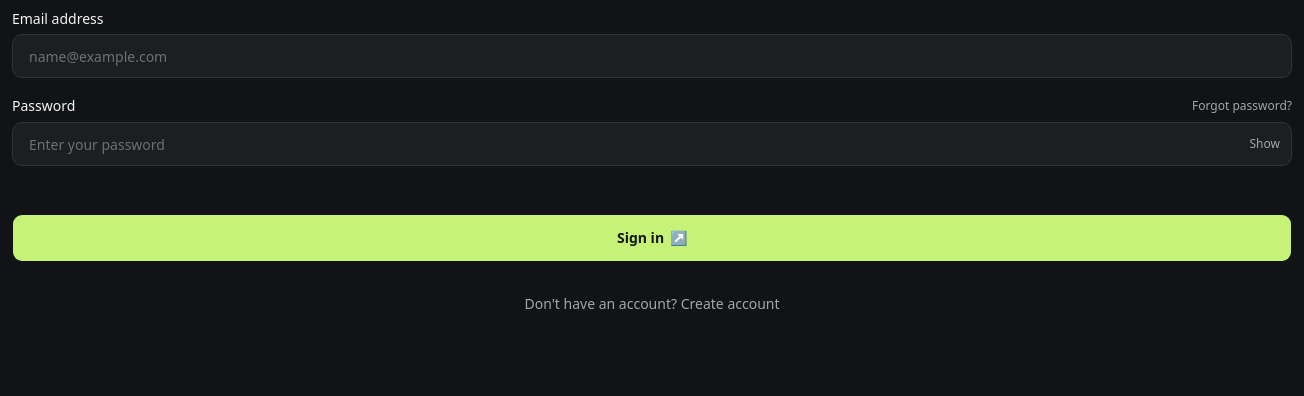
Test: LoginForm › shows network error without redirect
Type "user@example.com" into the field labelled "Email address" at (652,56), box [12,34,1292,78]
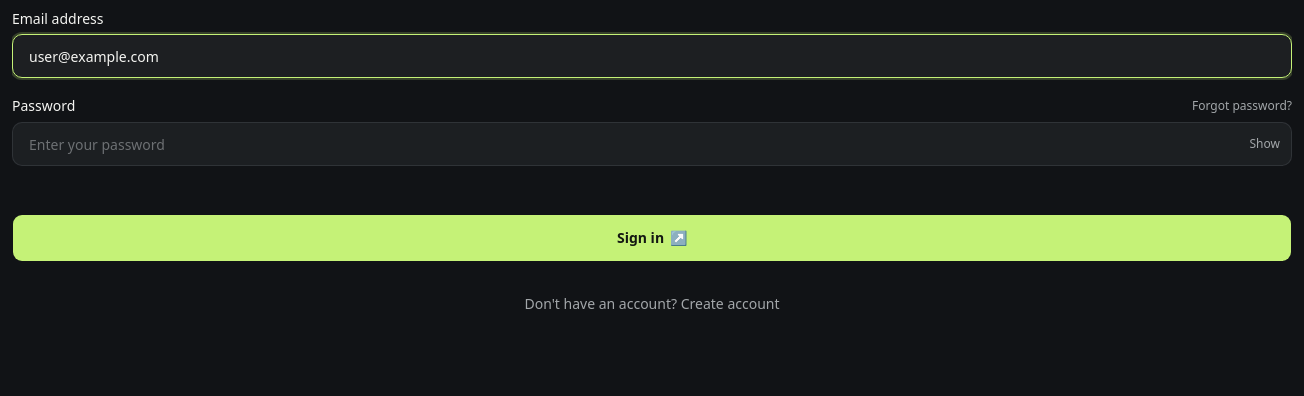
Type "Password123" into the password field labelled "Password" at (652,144), box [12,122,1292,166]
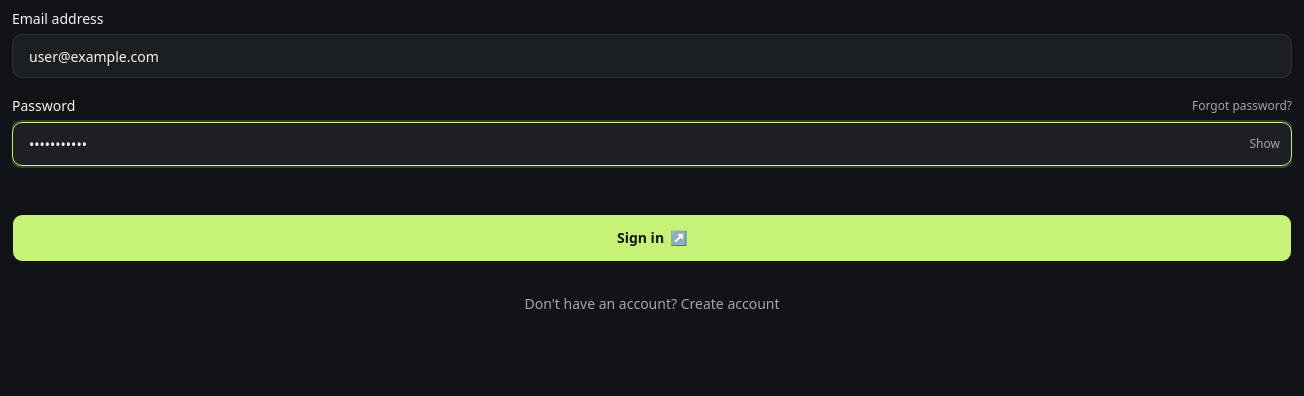
Click the button "Sign in ↗" at (652,238), box [12,214,1292,262]
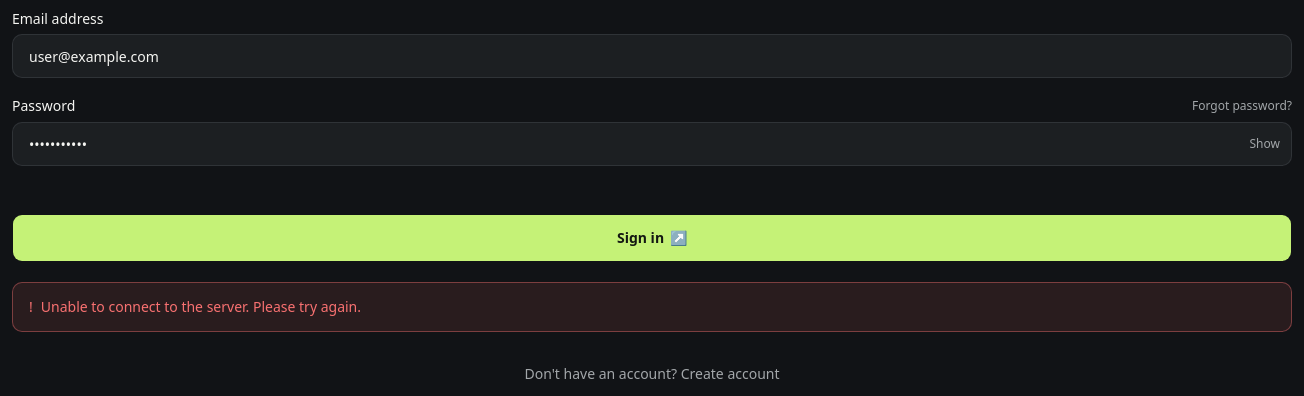
Expected: the text "Unable to connect to the server. Please try again." is shown, [41,295,361,319]
